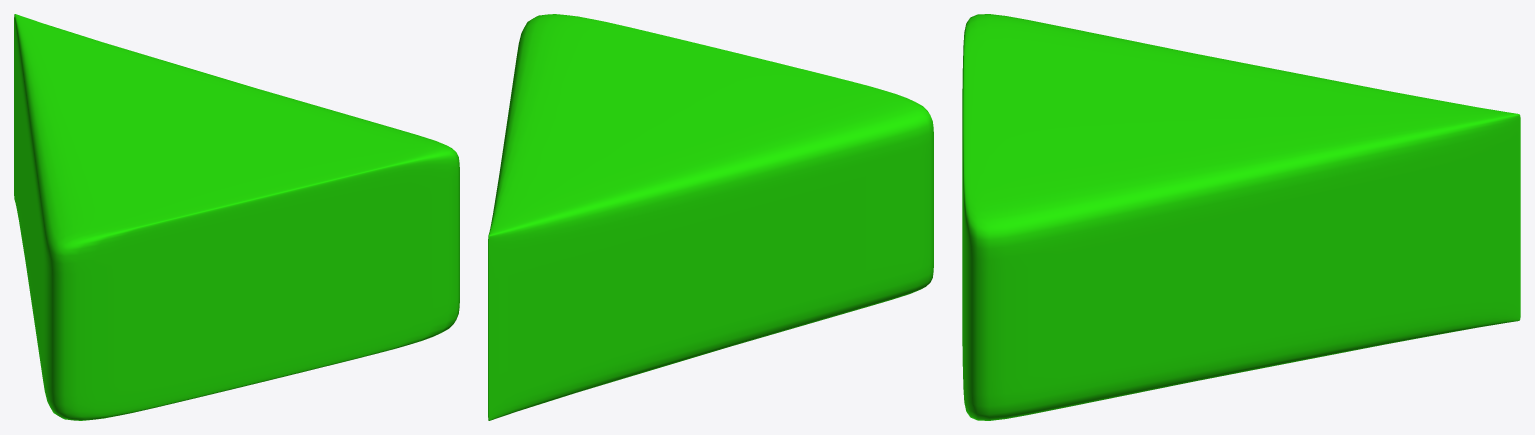
File: strzalka.glb
3 renders of one model, left to right at view 1: azimuth 30°, elevation 25°; view 2: azimuth 150°, elevation 25°; view 3: azimuth 270°, elevation 25°, orthographic. The views are drawn at different scales.
Visible parts, largest first — view 1: Cube; view 2: Cube; view 3: Cube.
Part boxes in pixels (bbox=[...]): Cube: bbox=[14, 14, 459, 420]; Cube: bbox=[488, 14, 933, 420]; Cube: bbox=[962, 14, 1520, 420].
Size of the model in its own units: 1.87 by 0.8187 by 2.
